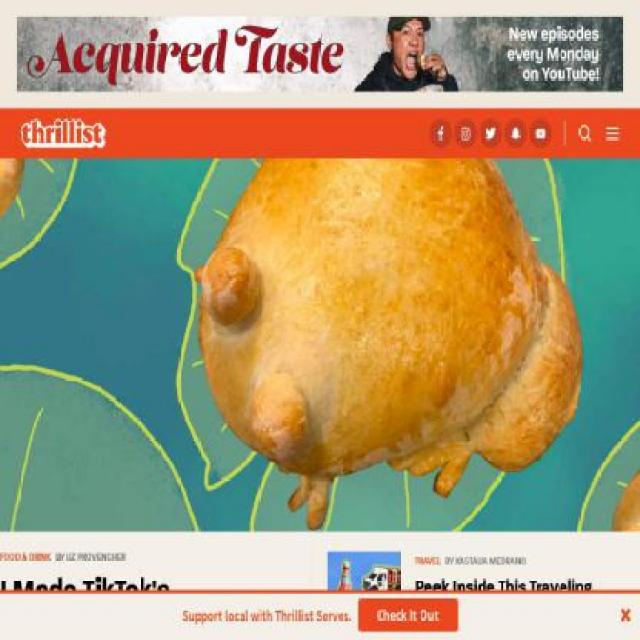button: (0, 590, 640, 639), (19, 109, 427, 157), (0, 572, 292, 639), (414, 575, 620, 639), (327, 552, 401, 639), (357, 598, 458, 632), (445, 552, 526, 566), (56, 552, 126, 562), (454, 118, 477, 148), (504, 118, 527, 148), (430, 118, 452, 148), (480, 118, 502, 148), (530, 118, 552, 148), (0, 551, 55, 562), (414, 552, 446, 566), (605, 123, 620, 143)
